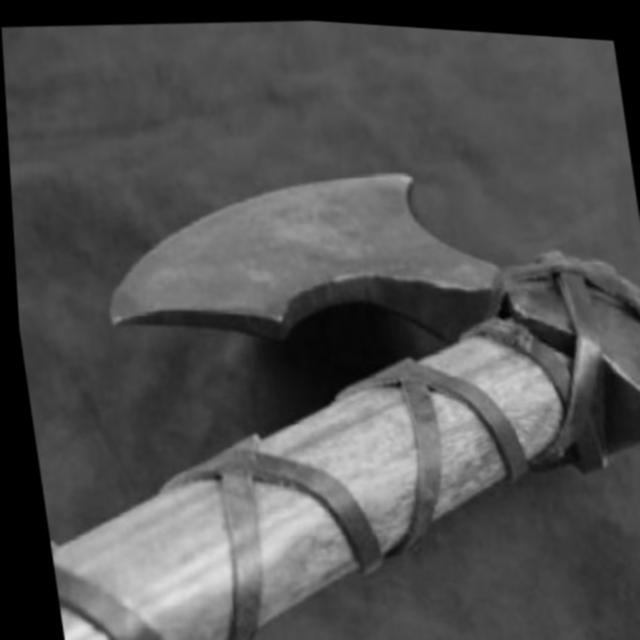weapon: (5, 117, 640, 640)
